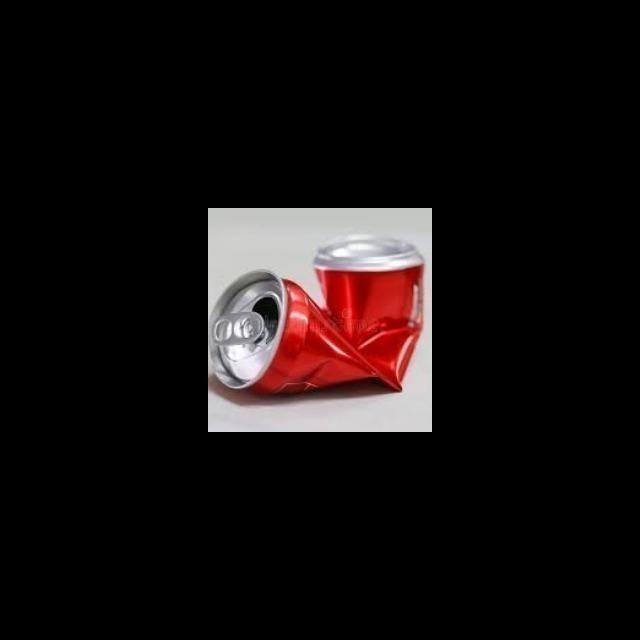metal: (208, 224, 432, 406)
